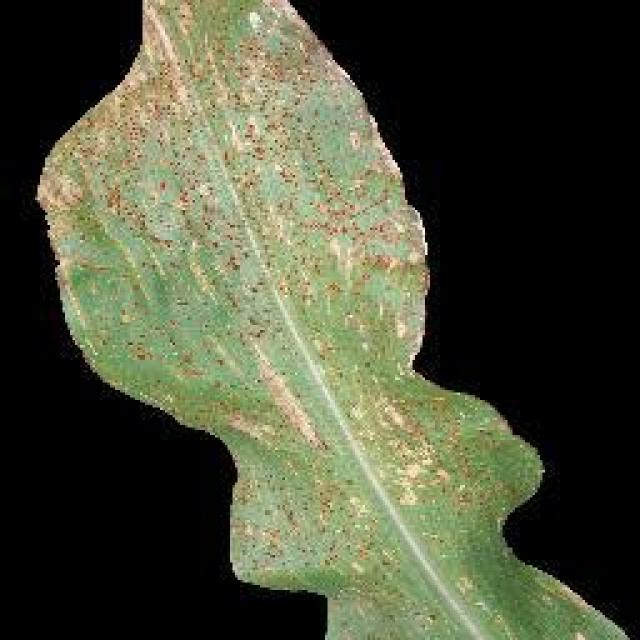Corn Common Rust: (152, 80, 503, 493)
